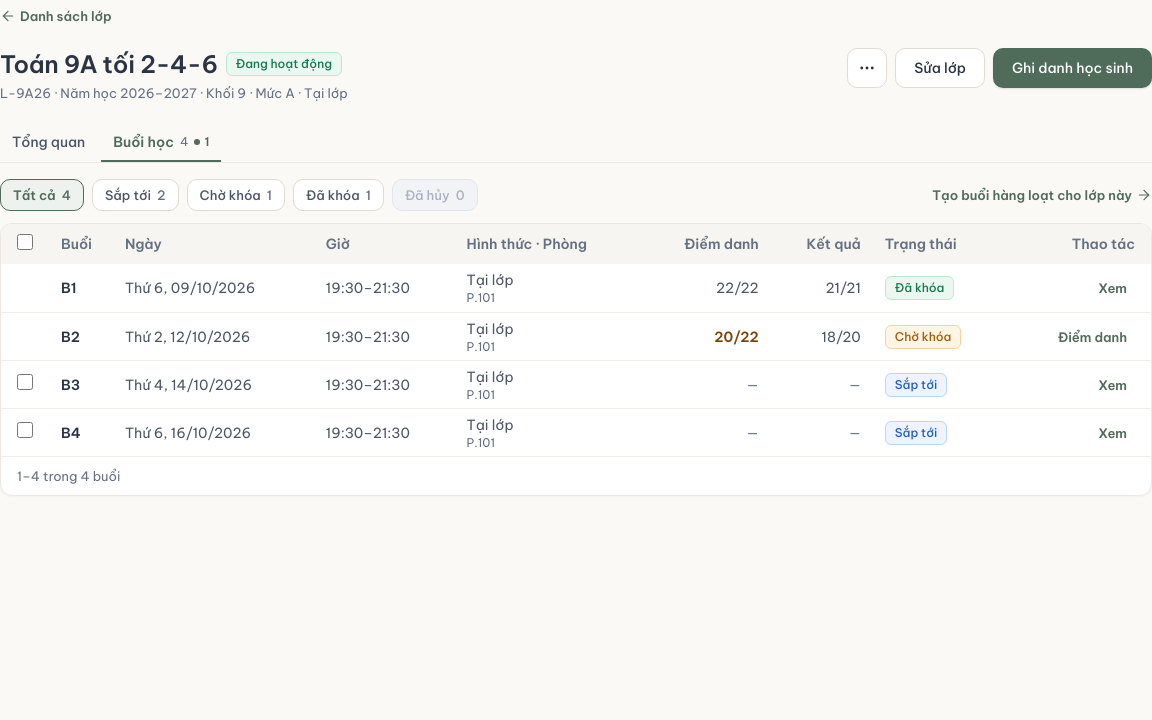
Test case: ClassDetailPage sessions tab, bulk and mobile › moves focus to the result after a fully successful bulk cancel
Click the checkbox named "Chọn buổi B3 " at (25, 382), box x1=17 y1=374 x2=33 y2=390
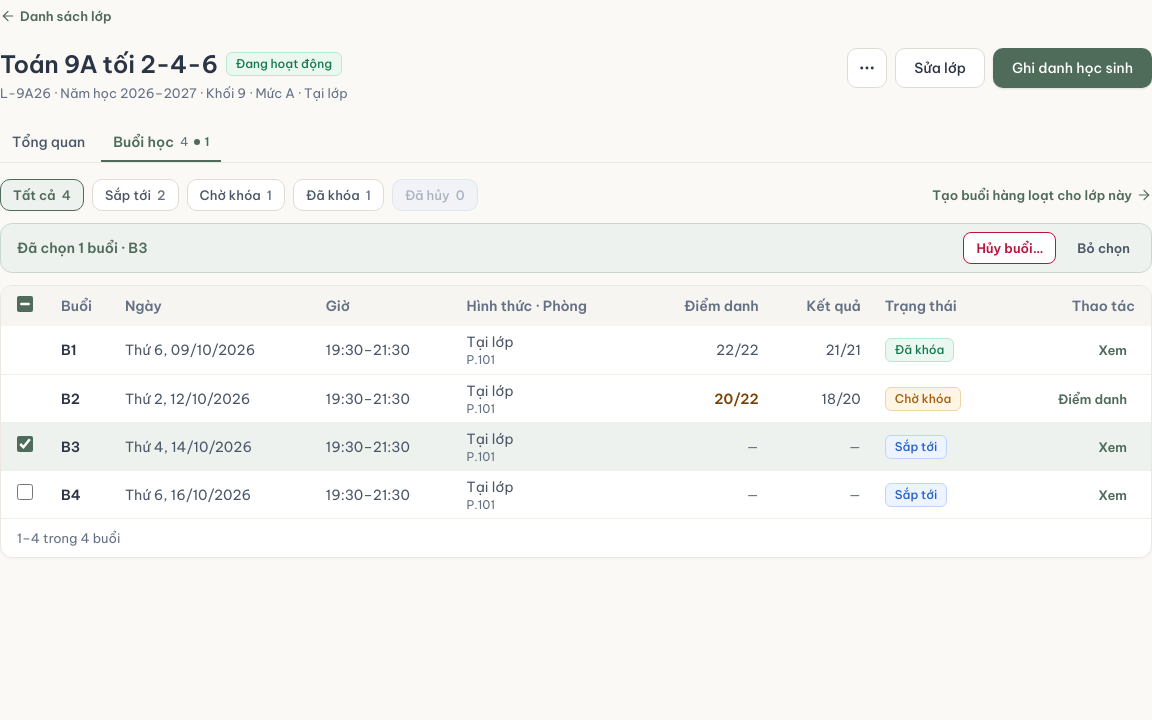
Click the checkbox named "Chọn buổi B4 " at (25, 492), box x1=17 y1=484 x2=33 y2=500
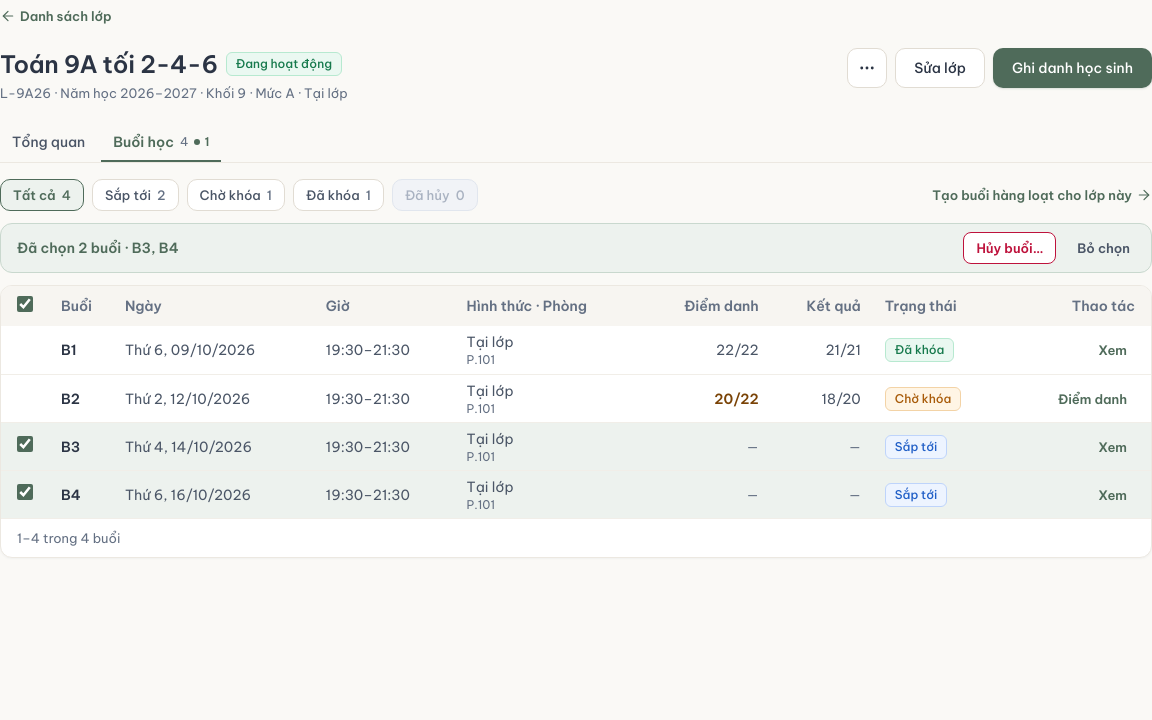
Click the button "Hủy buổi…" at (1010, 248), box x1=963 y1=232 x2=1056 y2=264
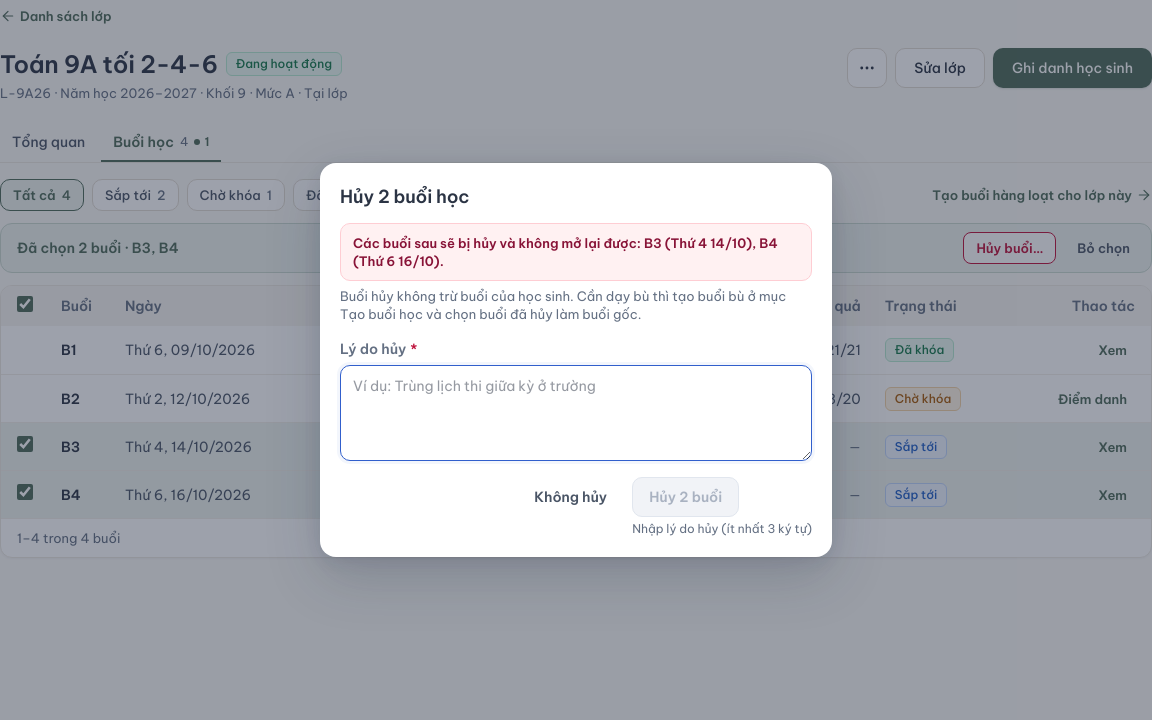
Type "Trùng lịch thi" into the text box labelled "Lý do hủy*" at (576, 413), box x1=340 y1=365 x2=812 y2=461
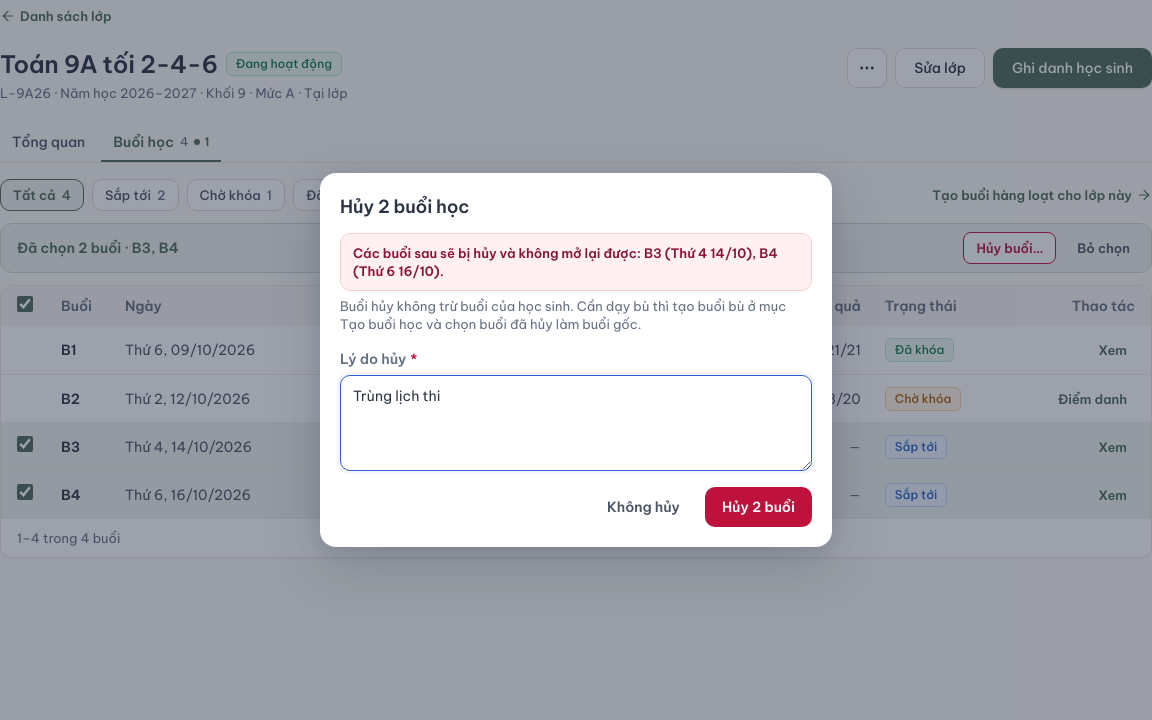
Click the button "Hủy 2 buổi" at (758, 507), box x1=705 y1=487 x2=812 y2=527
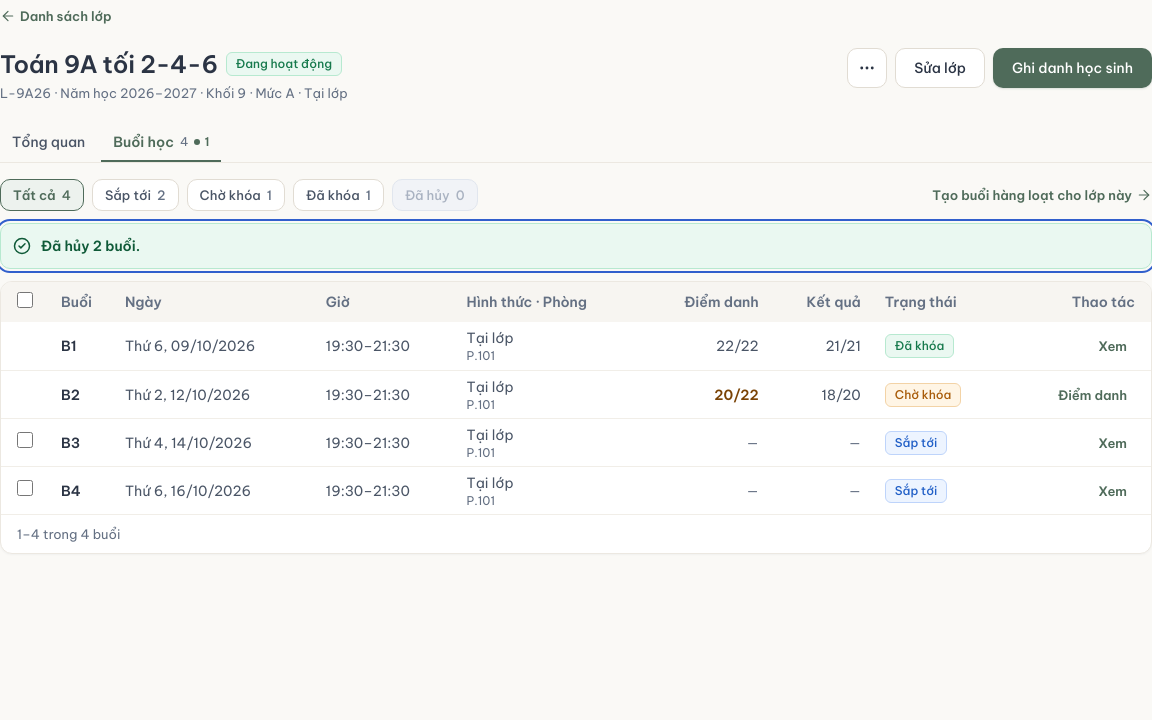
Now the text "Đã chọn" is gone
Now the text "Đã hủy 2 buổi." is shown, box x1=0 y1=223 x2=1151 y2=269
